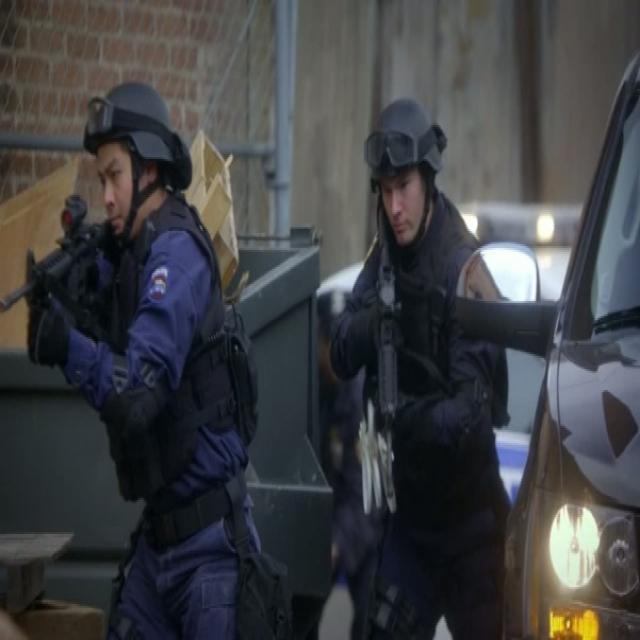rifle: (1, 193, 117, 320), (371, 210, 401, 443)
